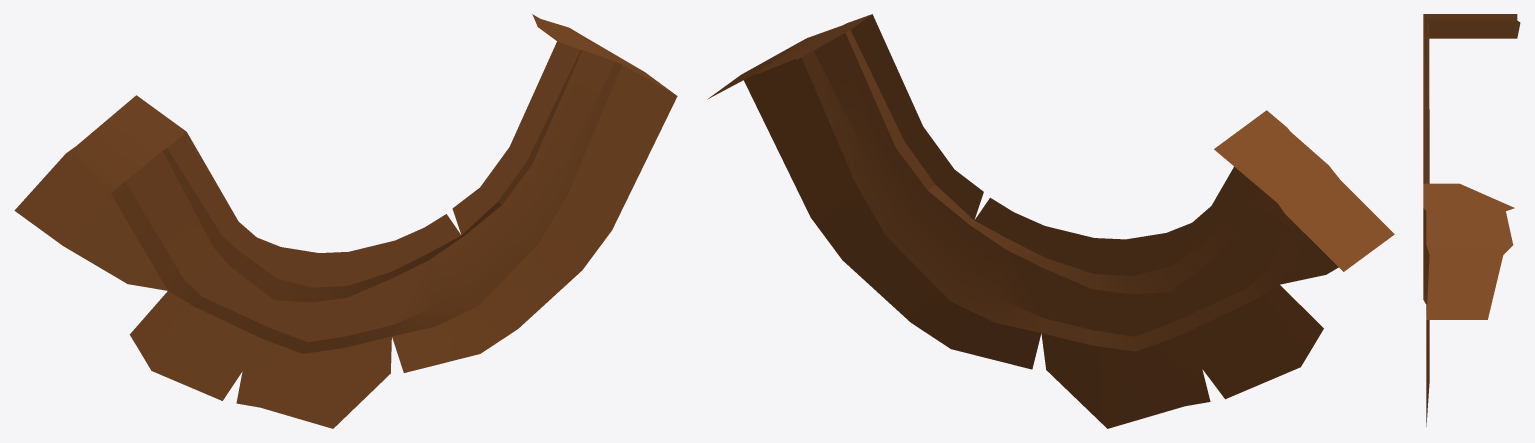
File: Flag_RoundArch.glb
The picture shows the model from 3 angles, left to right: view 1: azimuth 30°, elevation 25°; view 2: azimuth 150°, elevation 25°; view 3: azimuth 270°, elevation 25°; orthographic projection. The views are drawn at different scales.
Visible parts, largest first — view 1: Flag_RoundArch; view 2: Flag_RoundArch; view 3: Flag_RoundArch.
Boxes of the visible parts, box(x1,y1,x2,y2) form: Flag_RoundArch: box(14, 14, 677, 428); Flag_RoundArch: box(707, 14, 1394, 428); Flag_RoundArch: box(1423, 14, 1520, 426).
Size of the model in its own units: 1.08 by 0.5637 by 0.158.
